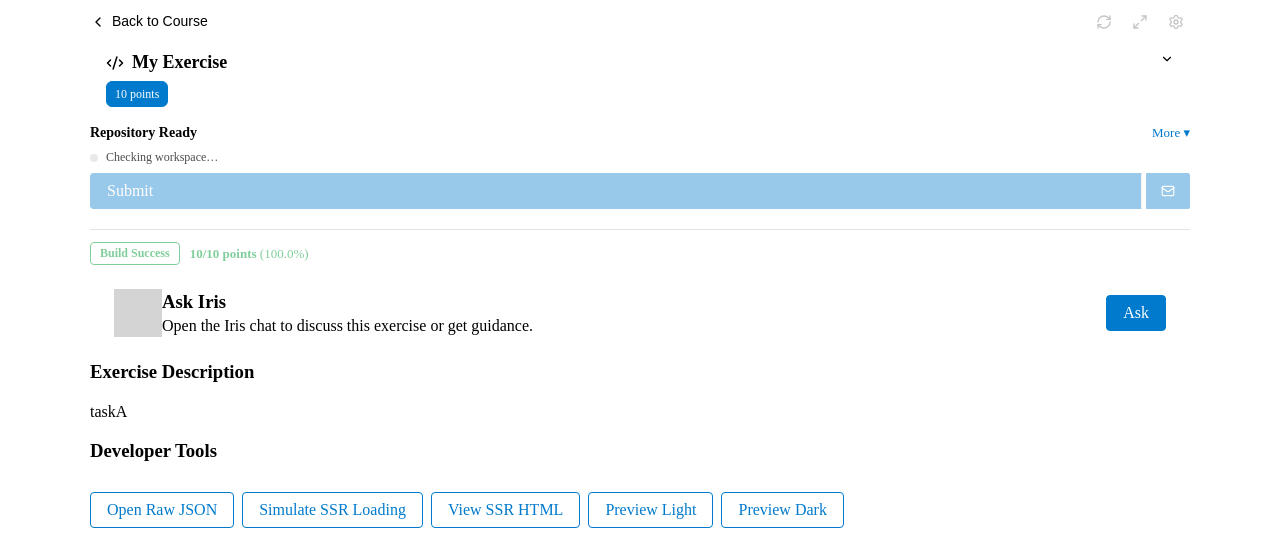
Test: ExerciseDetailView › task overlay shows legacy-success copy when result is successful without inline feedbacks
The image size is (1280, 545).
Click the text with class "artemis-task": (109, 412) x1=90 y1=403 x2=127 y2=420
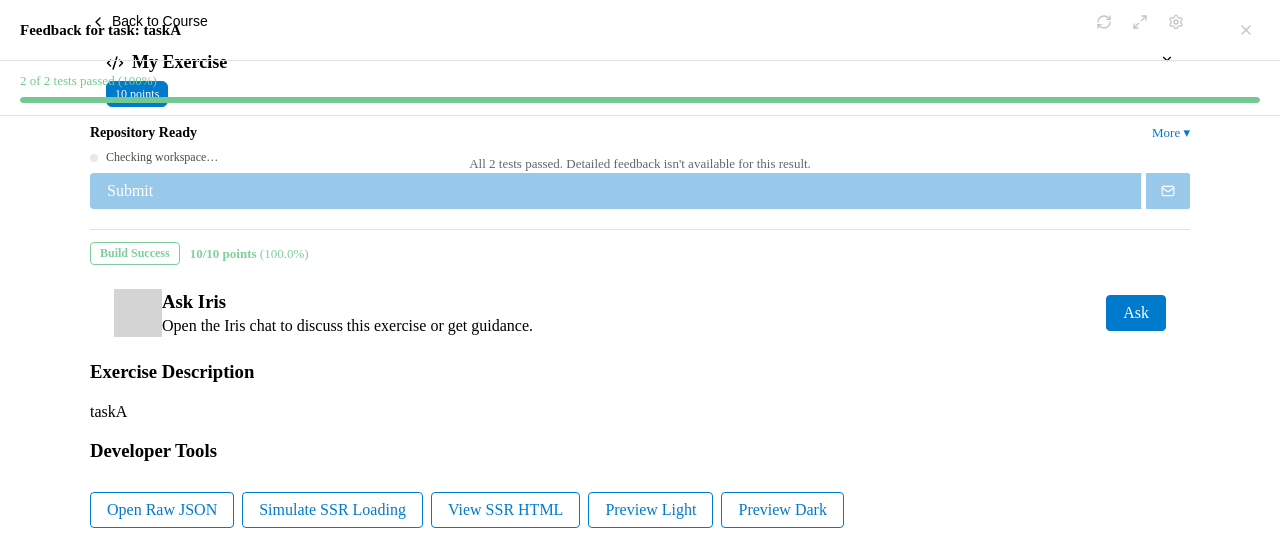
Result: the text "All 2 tests passed" is shown at x1=469 y1=156 x2=811 y2=171
